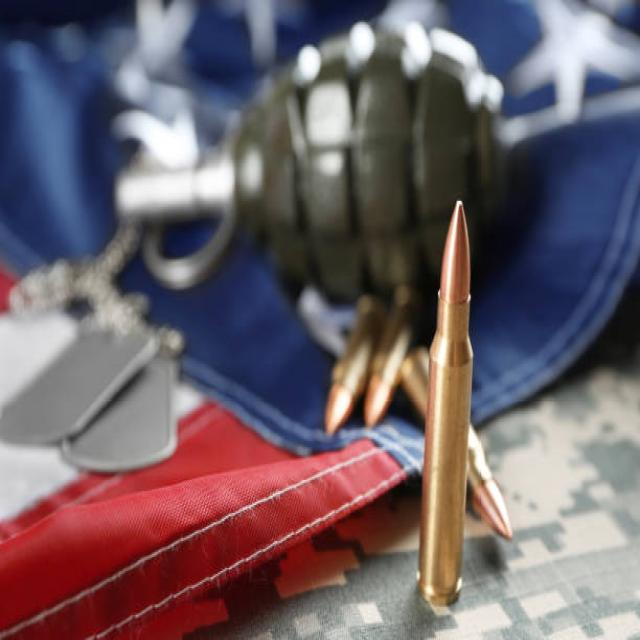grenade: (109, 15, 523, 331)
